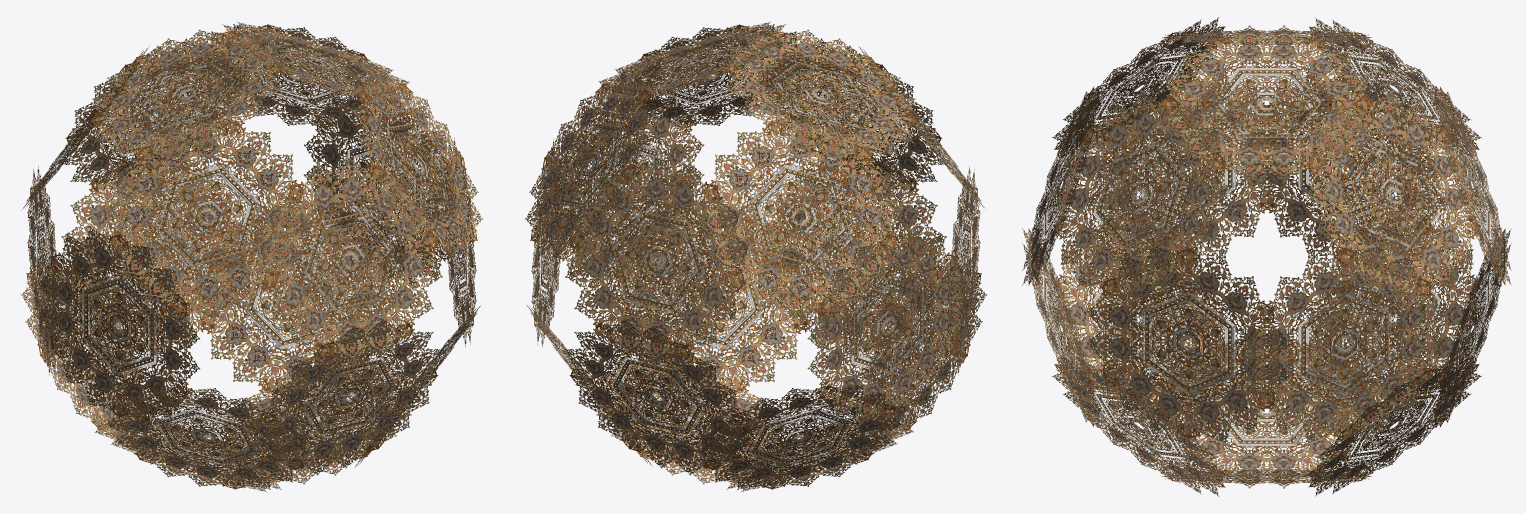
Rendered from IcositruncatedDodecadodecahedron1.gltf.
3 views of the same model, side by side, from view 1: azimuth 30°, elevation 25°; view 2: azimuth 150°, elevation 25°; view 3: azimuth 270°, elevation 25° (orthographic). The views are drawn at different scales.
Visible parts, largest first — view 1: IcositruncatedDodecadodecahedron; view 2: IcositruncatedDodecadodecahedron; view 3: IcositruncatedDodecadodecahedron.
Part boxes in pixels (left/top/right/bottom): IcositruncatedDodecadodecahedron: left=21, top=22, right=482, bottom=492; IcositruncatedDodecadodecahedron: left=525, top=21, right=986, bottom=491; IcositruncatedDodecadodecahedron: left=1022, top=17, right=1511, bottom=496.
Size of the model in its own units: 3.85 by 3.85 by 3.85.
1 material, 1 textured.
